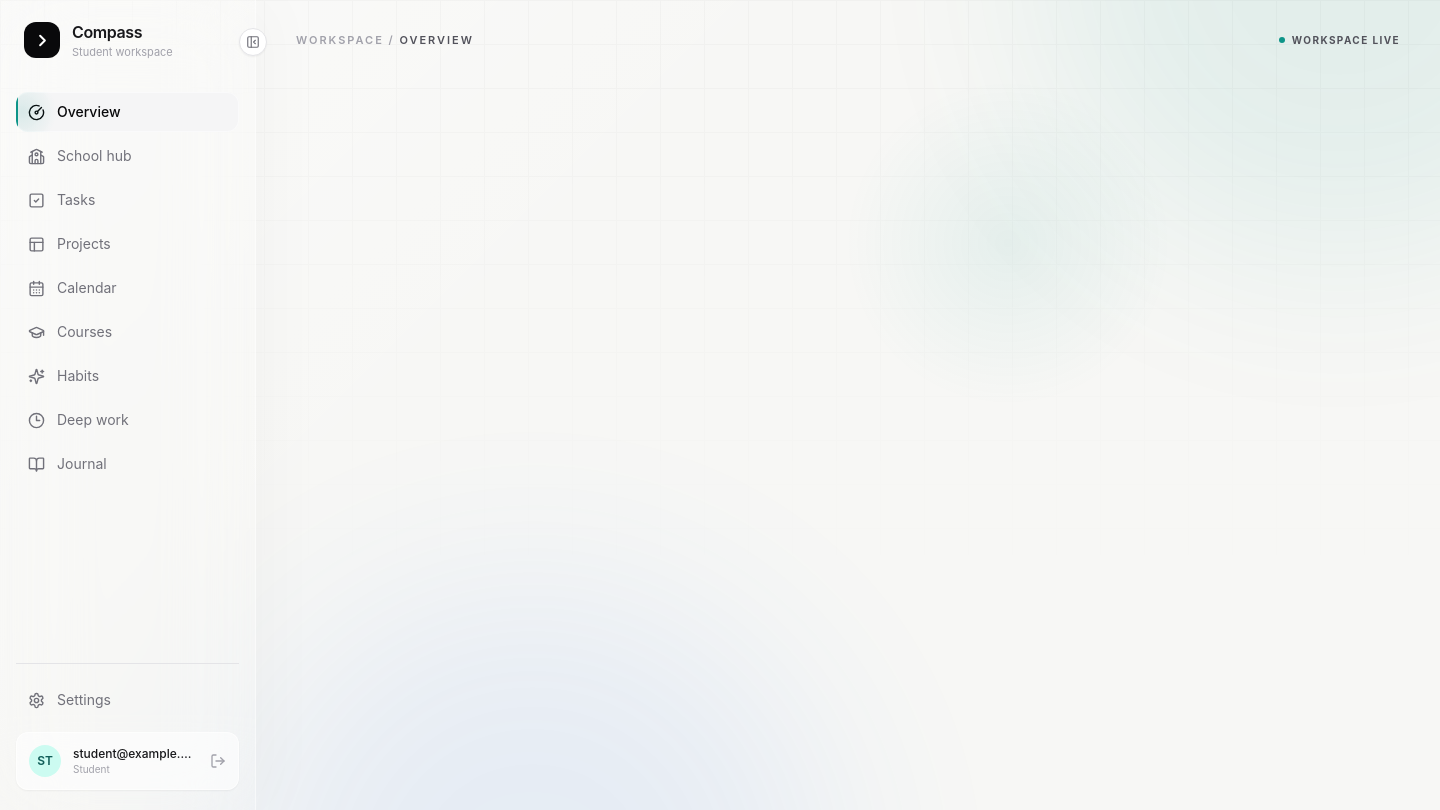
AppShell › persists compact sidebar mode
Click the button named "Collapse sidebar". click: [253, 42]
box: [239,28,267,56]
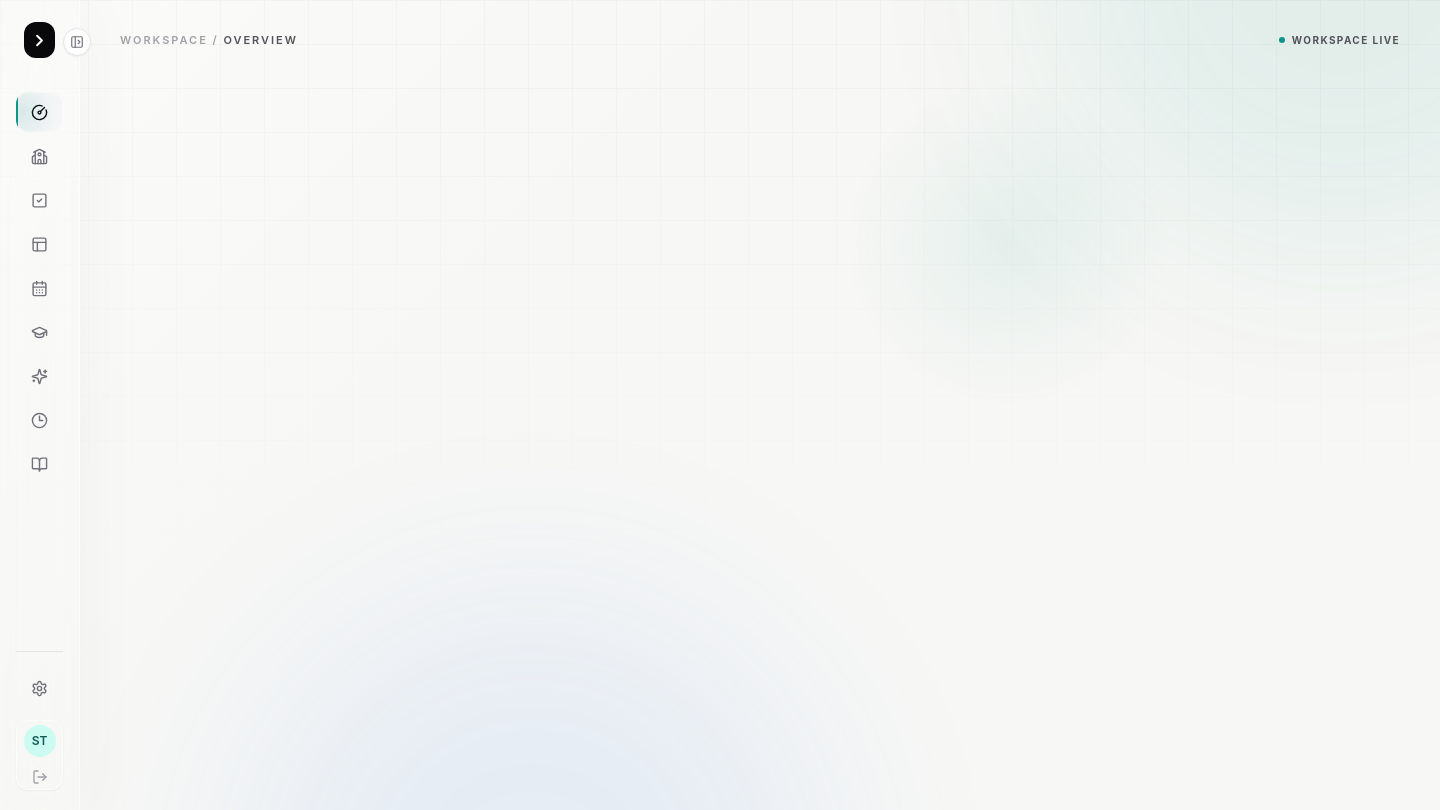
Expected: the button named "Expand sidebar" is shown, [63,28,91,56]
